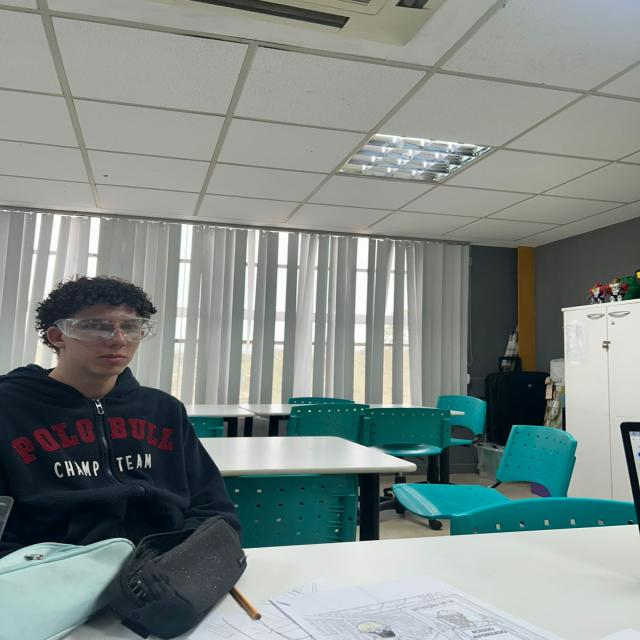oculos-epi: (50, 316, 157, 344)
